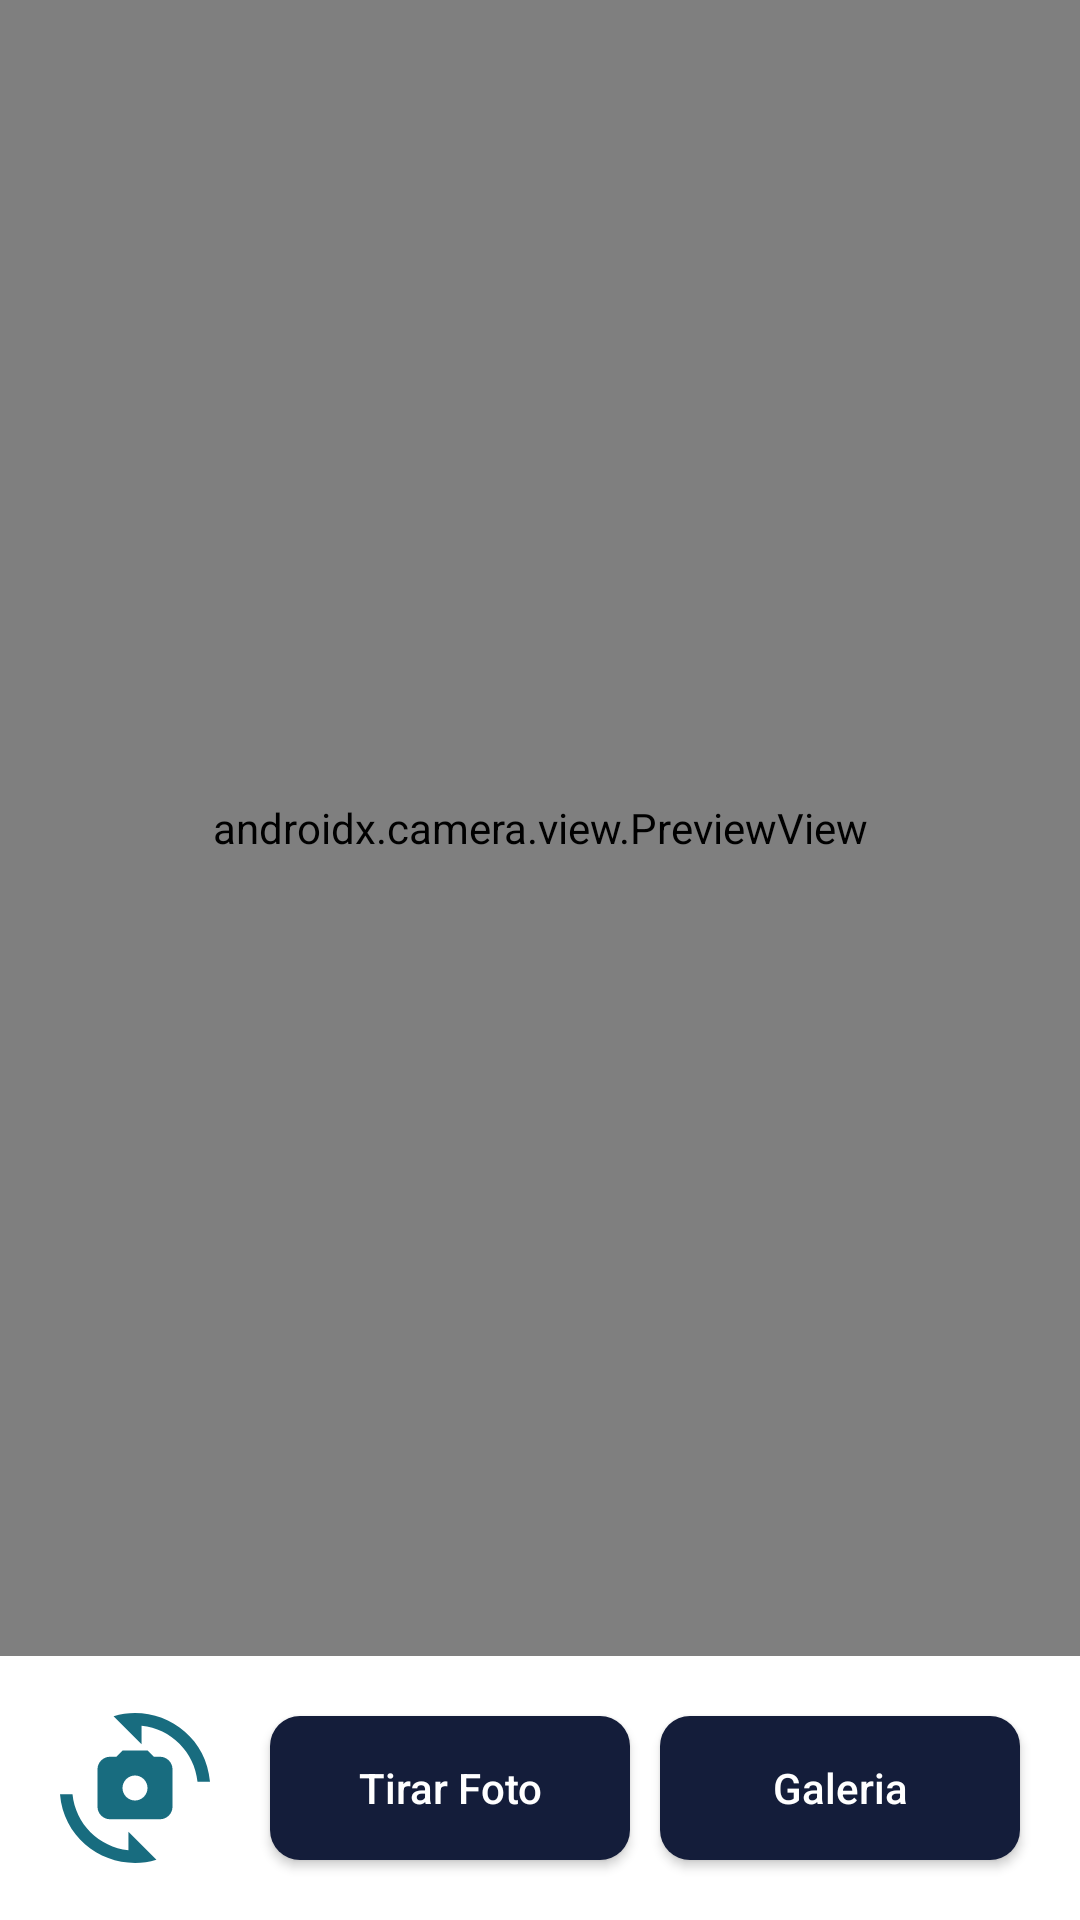

Point at icon controls on the screen. Image size 1080px×1920px, points as (x=x, y=y).
cameraswitch: (x=135, y=1788)
